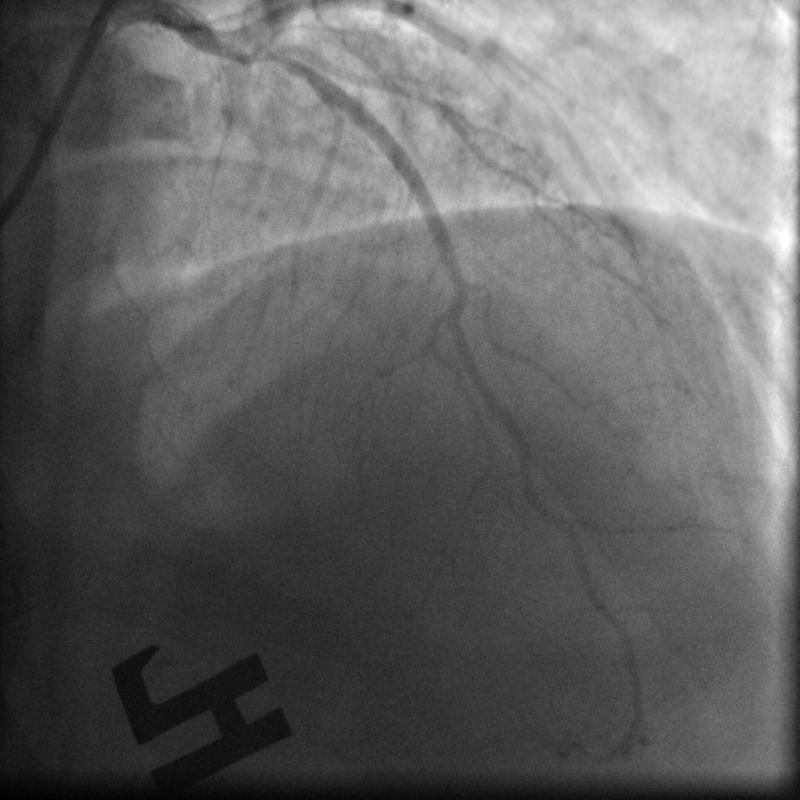Stenosis: (230, 42, 297, 75)
